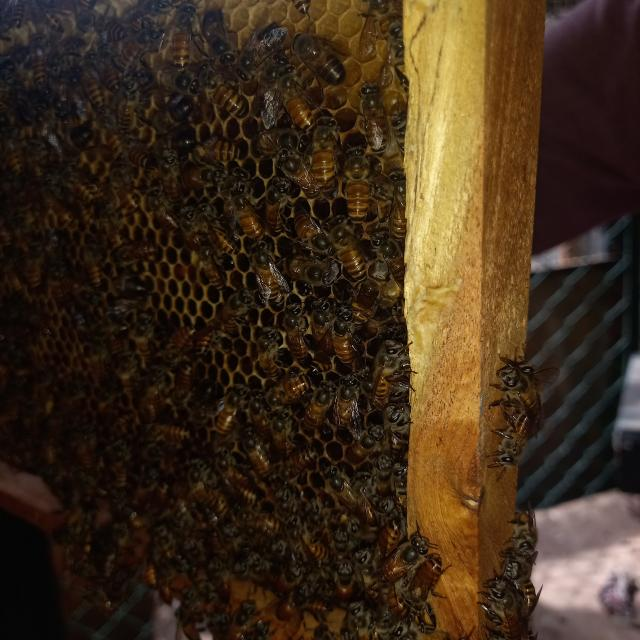honeybee: (492, 359, 554, 401), (291, 32, 347, 78), (357, 84, 394, 150), (414, 554, 441, 639), (246, 244, 286, 300), (496, 413, 530, 476), (331, 225, 368, 280), (481, 577, 513, 640), (501, 509, 545, 554), (345, 151, 371, 226), (509, 558, 549, 606), (370, 228, 404, 282), (375, 340, 404, 403), (204, 79, 247, 121), (271, 148, 312, 192), (196, 17, 236, 62), (335, 377, 363, 437), (270, 592, 325, 622), (383, 539, 421, 582), (318, 466, 358, 506), (314, 115, 337, 181), (154, 322, 192, 361), (236, 432, 272, 473), (232, 195, 264, 240), (277, 306, 305, 357), (169, 7, 194, 62), (155, 65, 199, 96), (148, 101, 195, 130), (292, 214, 328, 251), (308, 302, 332, 355), (242, 501, 282, 532), (239, 24, 269, 65), (196, 251, 226, 291), (140, 421, 194, 443), (284, 81, 312, 123), (328, 564, 358, 602), (262, 377, 307, 402), (145, 196, 177, 230), (335, 313, 356, 364), (249, 336, 275, 377), (260, 66, 278, 125), (313, 379, 332, 434), (124, 30, 150, 70), (111, 246, 163, 266), (291, 259, 330, 285), (115, 91, 139, 133), (376, 608, 408, 639), (202, 207, 227, 246), (186, 144, 240, 162), (302, 527, 333, 557), (179, 166, 218, 189), (267, 191, 287, 235), (342, 604, 366, 640), (218, 296, 243, 330), (231, 600, 254, 636), (180, 210, 200, 250), (356, 284, 381, 316), (123, 144, 153, 170), (377, 454, 394, 498), (281, 454, 307, 482), (278, 558, 304, 586), (220, 394, 238, 433), (361, 422, 378, 462), (383, 406, 410, 430), (173, 367, 193, 397), (248, 399, 266, 430), (273, 416, 290, 448), (197, 321, 215, 351), (350, 545, 380, 563), (213, 458, 234, 480)
